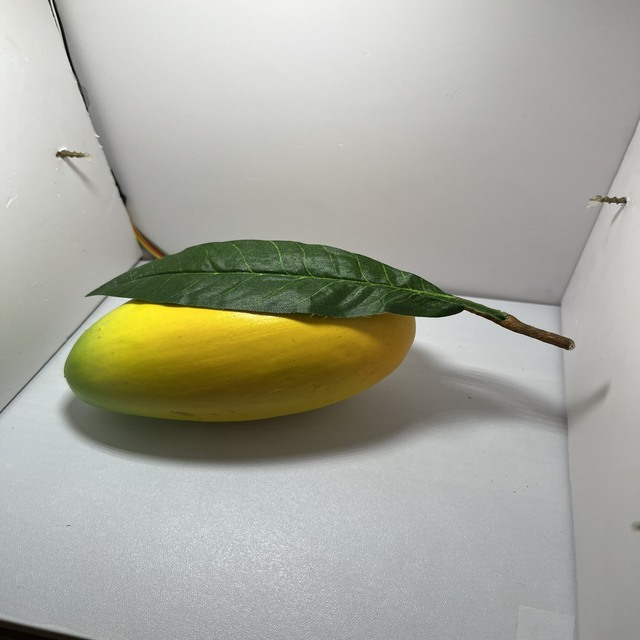Xoai: (31, 184, 456, 479)
